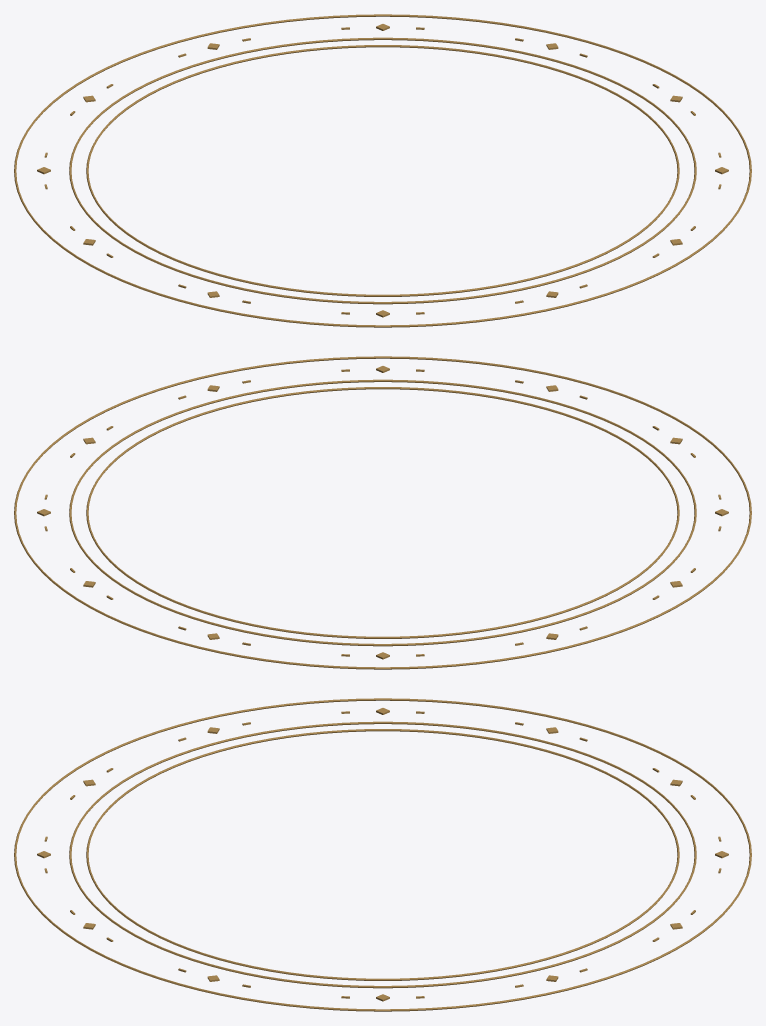
The model's file is wizard_table_rune_inlay.glb.
The picture shows the model from 3 angles, top to bottom: view 1: azimuth 30°, elevation 25°; view 2: azimuth 150°, elevation 25°; view 3: azimuth 270°, elevation 25°; orthographic projection.
Parts seen in each view (by area): view 1: wizard_table_rune_inlay_Static; view 2: wizard_table_rune_inlay_Static; view 3: wizard_table_rune_inlay_Static.
Part boxes in pixels (x1=…): wizard_table_rune_inlay_Static: x1=14, y1=14, x2=751, y2=327; wizard_table_rune_inlay_Static: x1=14, y1=356, x2=751, y2=669; wizard_table_rune_inlay_Static: x1=14, y1=698, x2=751, y2=1011.
Bounding box in the file's own units: 5.62 × 0.0178 × 5.62.
